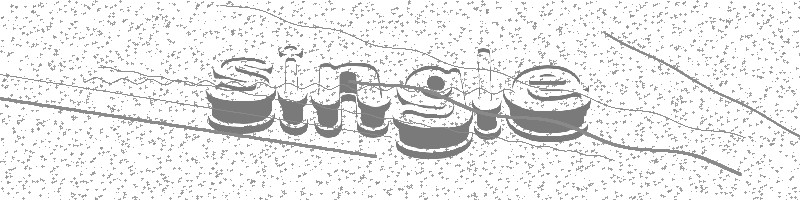e: (501, 61, 594, 144)
g: (395, 64, 474, 158)
i: (277, 42, 310, 135)
l: (471, 39, 502, 141)
n: (311, 60, 394, 140)
s: (205, 54, 278, 133)
